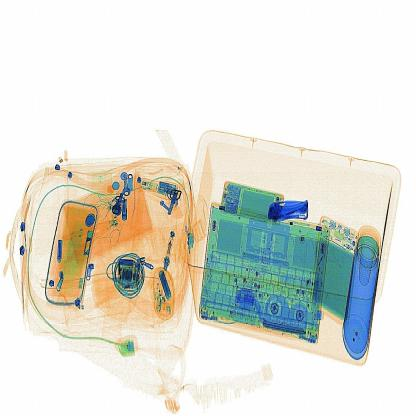knife: (266, 197, 314, 228)
